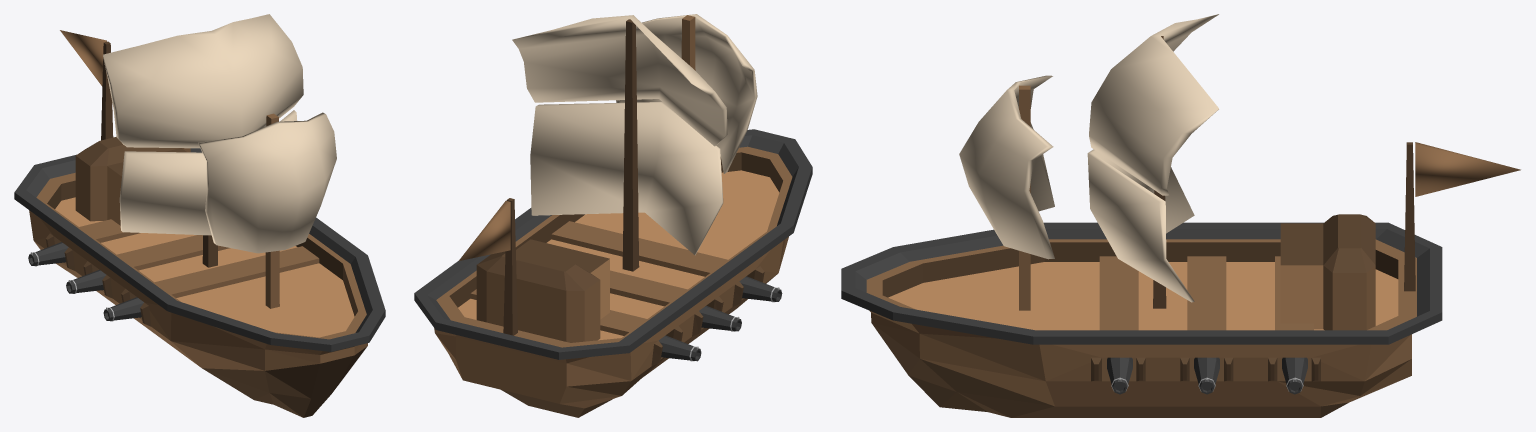
The model's file is basic_boat_model_for_low-poly_game_44.glb.
3 renders of one model, left to right at view 1: azimuth 30°, elevation 25°; view 2: azimuth 150°, elevation 25°; view 3: azimuth 270°, elevation 25°, orthographic. The views are drawn at different scales.
Visible parts, largest first — view 1: object 1, Sails_1, Hull_1, Crew_1, cannon_2, cannon_1; view 2: object 1, Hull_1, Crew_1, Sails_1, cannon_2, cannon_1; view 3: object 1, Hull_1, Sails_1, Crew_1, cannon_2, cannon_1.
Part boxes in pixels (<box>): object 1: <box>29,14,367,417</box>; Sails_1: <box>198,112,336,308</box>; Hull_1: <box>14,148,385,351</box>; Crew_1: <box>75,137,190,225</box>; cannon_2: <box>103,288,151,326</box>; cannon_1: <box>28,233,75,270</box>; object 1: <box>434,15,792,417</box>; Hull_1: <box>414,129,812,359</box>; Crew_1: <box>476,239,609,319</box>; Sails_1: <box>616,14,757,173</box>; cannon_2: <box>732,266,782,306</box>; cannon_1: <box>651,326,701,365</box>; object 1: <box>866,14,1520,417</box>; Hull_1: <box>841,222,1442,344</box>; Sails_1: <box>959,75,1054,310</box>; Crew_1: <box>1280,214,1375,329</box>; cannon_2: <box>1091,357,1145,394</box>; cannon_1: <box>1268,357,1320,394</box>.
Bounding box in the file's own units: 0.8174 × 1 × 1.67.
